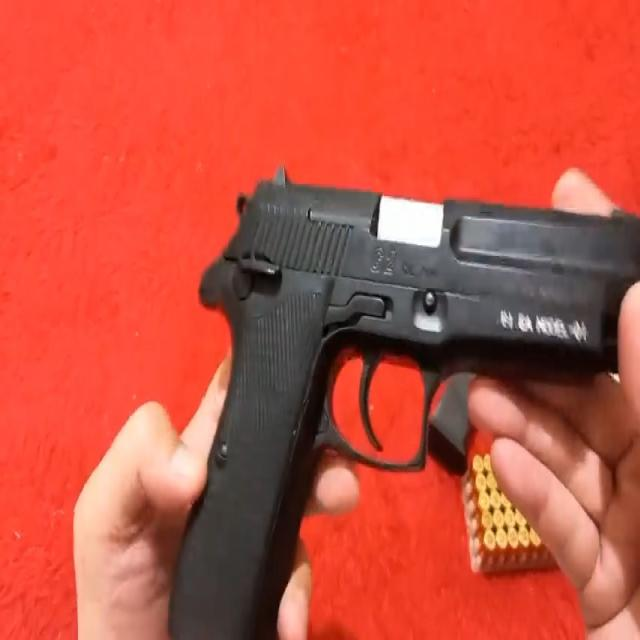handgun: (163, 185, 636, 628)
